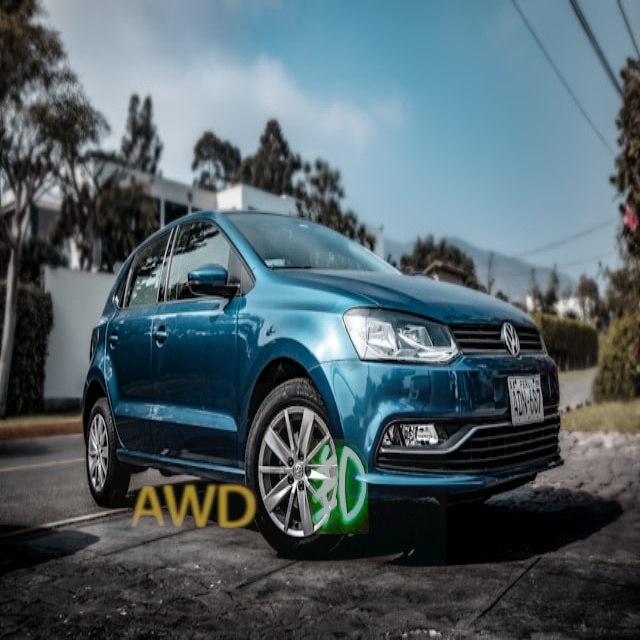symbol: (229, 383, 446, 600), (109, 426, 274, 591)
